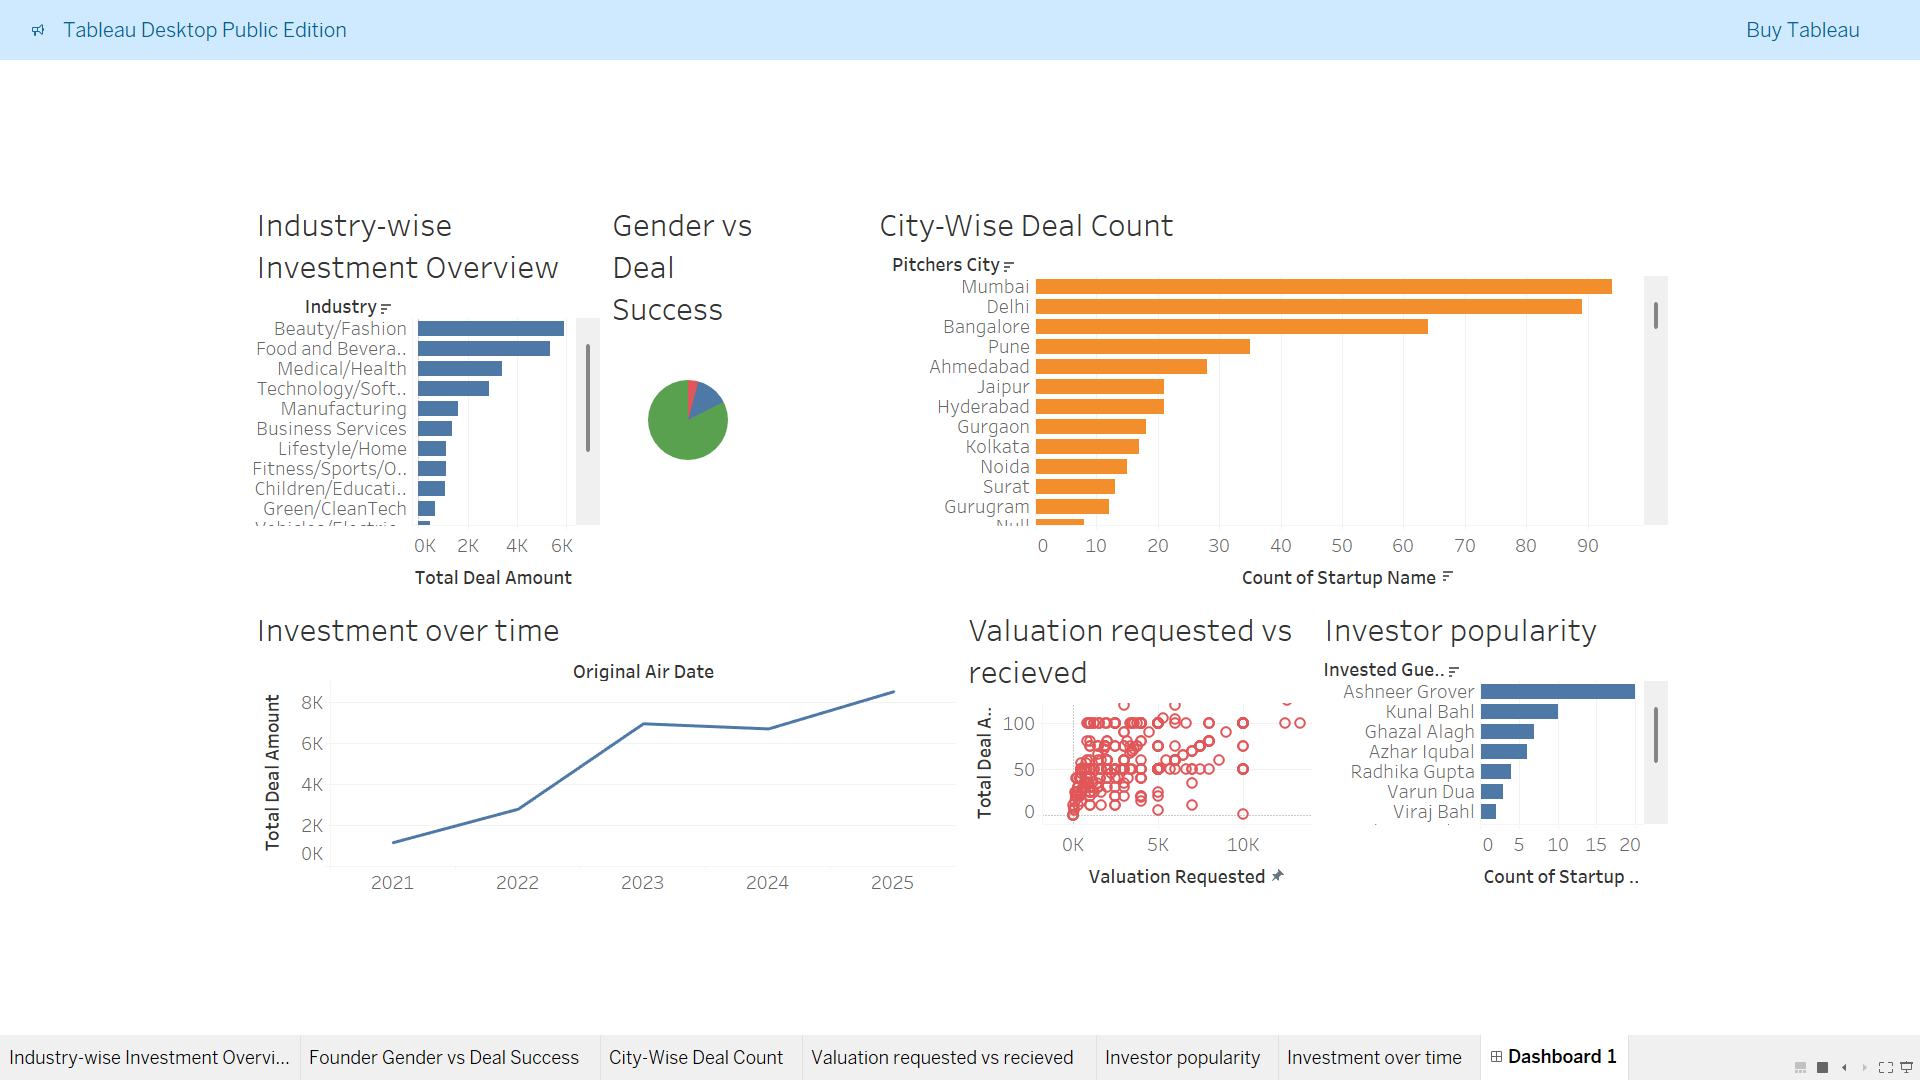

The page's visual inventory and layout, read from the dashboard file:
{"tool":"tableau","page":{"name":"Dashboard 1","canvas":[1440,720],"ordinal":0},"visuals":[{"type":"worksheet","title":"Industry-wise Investment Overview","mark":"Automatic","rows":["Industry"],"cols":["Total Deal Amount"],"box":[8,8,356,405]},{"type":"worksheet","title":"Founder Gender vs Deal Success","mark":"Pie","box":[364,8,267,405]},{"type":"worksheet","title":"City-Wise Deal Count","mark":"Automatic","rows":["Pitchers City"],"cols":["Startup Name"],"box":[631,8,801,405]},{"type":"worksheet","title":"Investment over time","mark":"Automatic","rows":["Total Deal Amount"],"cols":["Original Air Date"],"box":[8,413,712,299]},{"type":"worksheet","title":"Valuation requested vs recieved","mark":"Automatic","rows":["Total Deal Amount"],"cols":["Valuation Requested"],"box":[720,413,356,299]},{"type":"worksheet","title":"Investor popularity","mark":"Automatic","rows":["Invested Guest Name"],"cols":["Startup Name"],"box":[1076,413,356,299]}]}

Visuals, with their boxes on the page's 1440x720 design canvas (x1, y1, x2, y2). These are canvas units, not pixel positions in the 1920x1080 screenshot, which may show the page scaled, cropped or inside an application window:
"Industry-wise Investment Overview" worksheet: 8 8 364 413
"Founder Gender vs Deal Success" worksheet (Pie marks): 364 8 631 413
"City-Wise Deal Count" worksheet: 631 8 1432 413
"Investment over time" worksheet: 8 413 720 712
"Valuation requested vs recieved" worksheet: 720 413 1076 712
"Investor popularity" worksheet: 1076 413 1432 712
